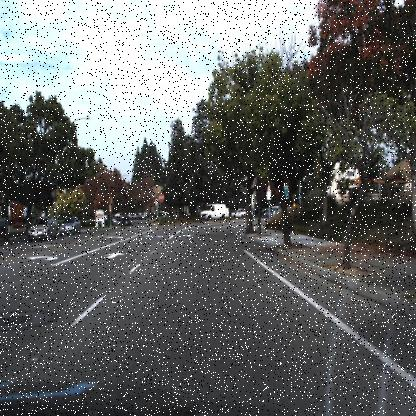car: (23, 212, 62, 245), (25, 213, 59, 245), (197, 199, 228, 223), (56, 211, 82, 239), (264, 204, 283, 220), (117, 212, 132, 229)
